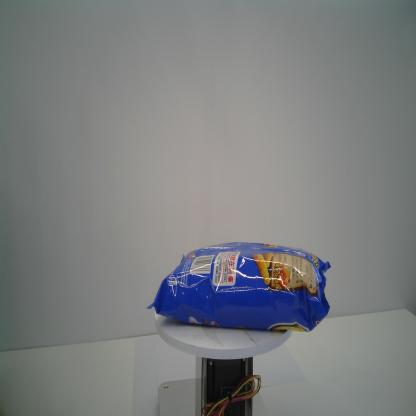Puffed Food: (146, 241, 332, 332)
